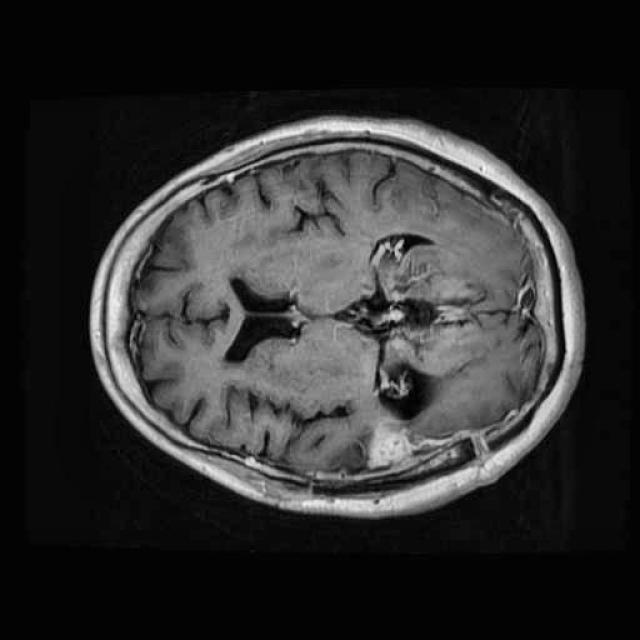Non-Tumor: (361, 401, 464, 474)
